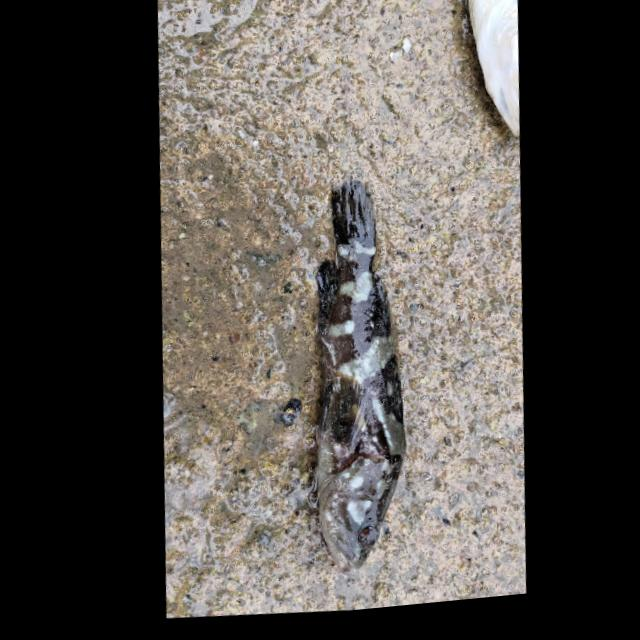Groupers: (285, 175, 435, 577)
